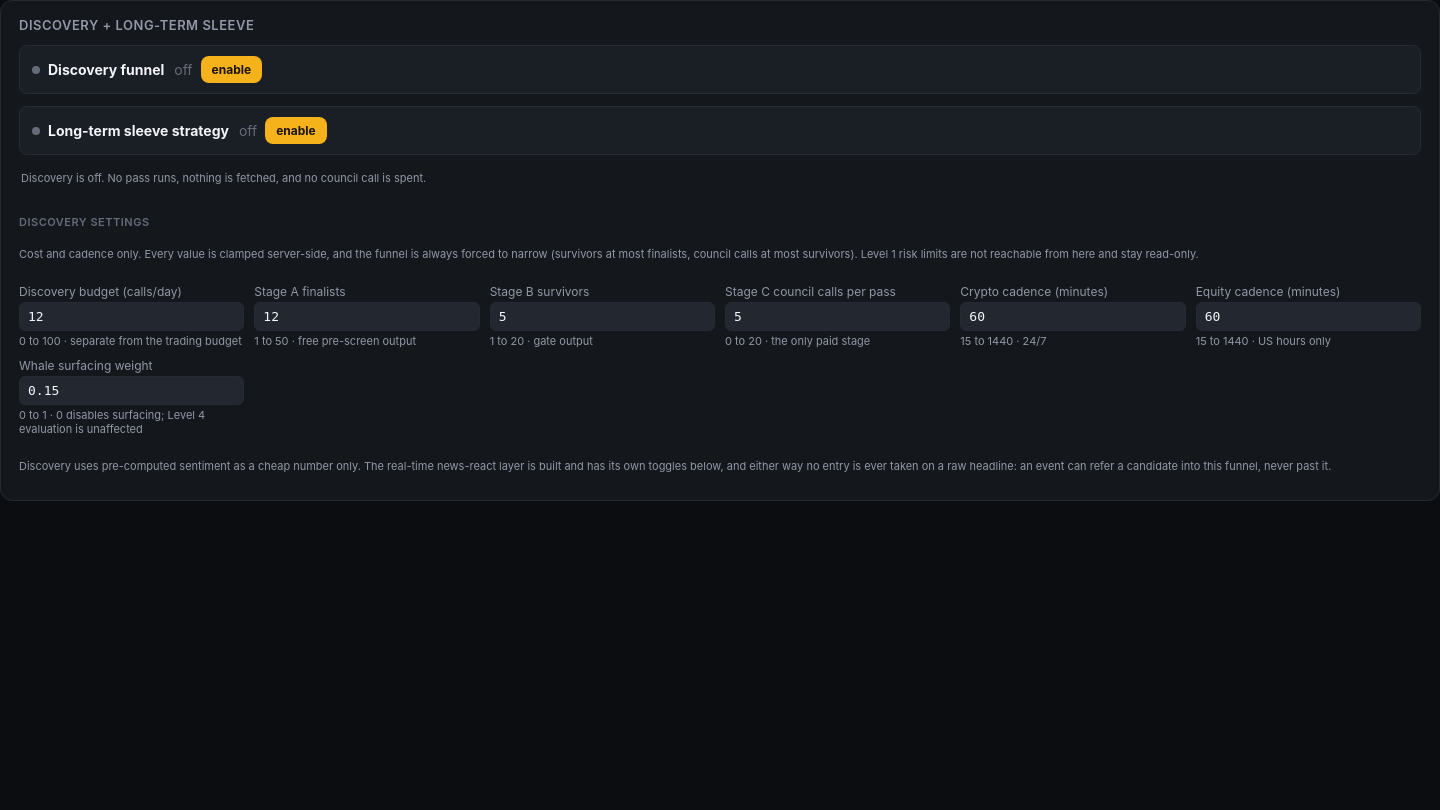
Test: enable toggles ask before they spend › states plainly what turning discovery on starts
Click the button "enable" in the row of "Discovery funnel" at (231, 70), box [200,56,262,83]
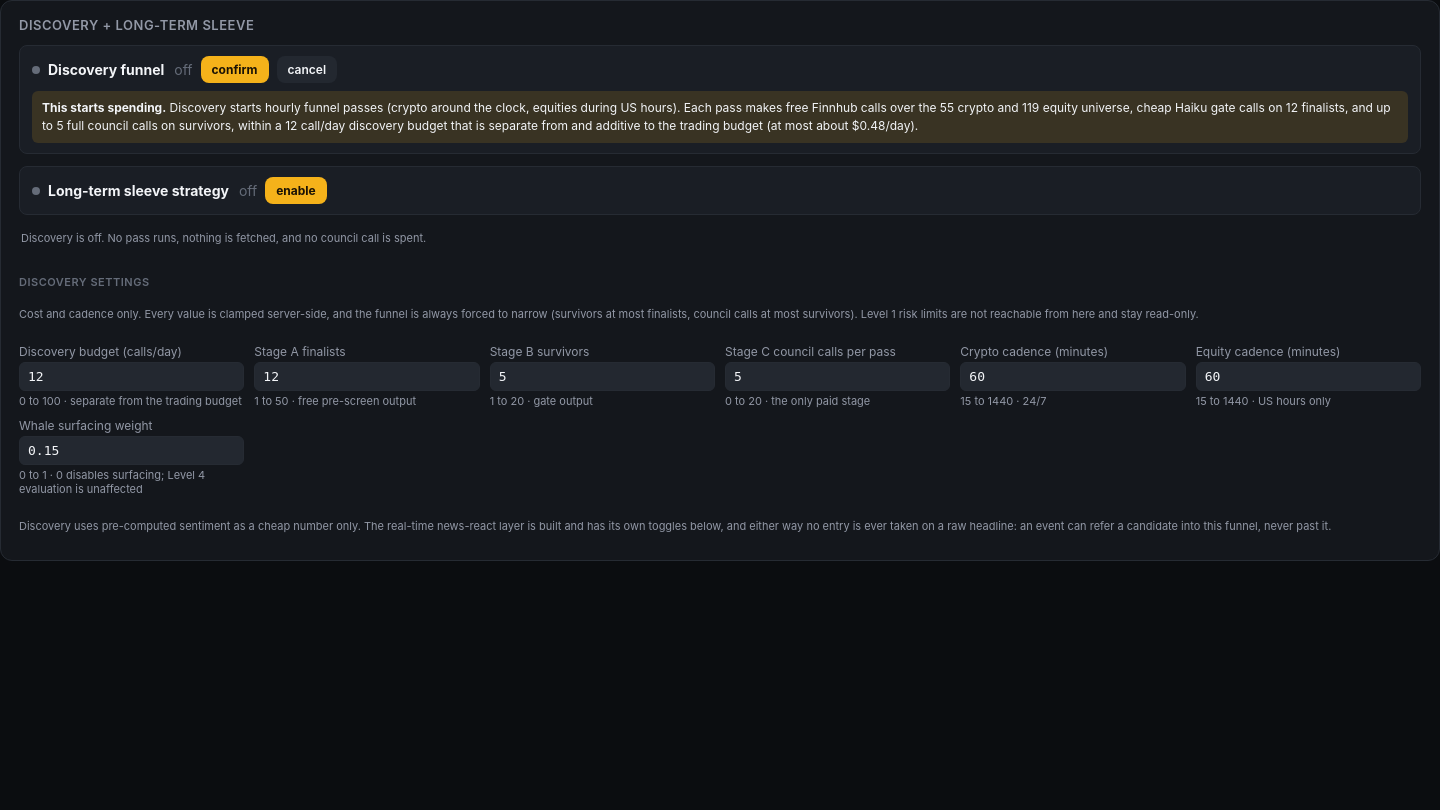
Expected: the text "This starts spending." is shown, [42,100,166,115]
Expected: the element with test id "toggle-discovery-confirm" shows "hourly funnel passes", [42,100,1391,133]
Expected: the element with test id "toggle-discovery-confirm" shows "12 call/day discovery budget", [42,100,1391,133]
